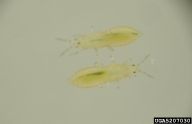Thrips: (53, 23, 145, 57), (69, 62, 159, 95)
